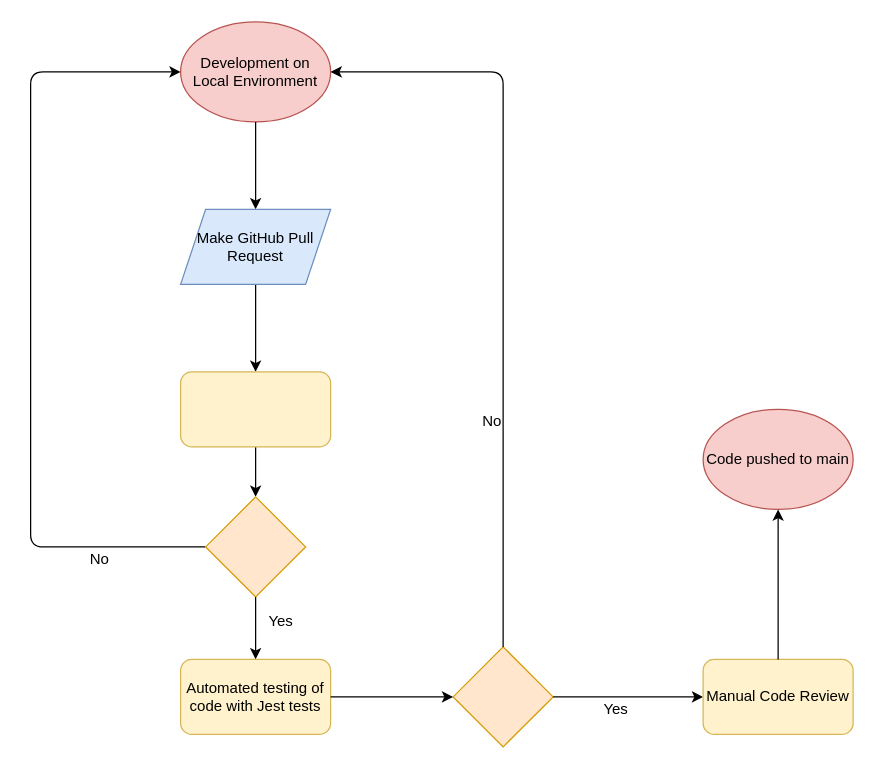
The diagram is 875 pixels wide and 769 high, and some of its shapes have lost their labels. The shapes that lost their labels are listed below. From the top down, each one's centre as x and y in pixels, then its label:
At [255,409]: "Lint checks code from Pull Request".
At [255,546]: "Passes Lint filter".
At [502,696]: "Passes Jest tests".
